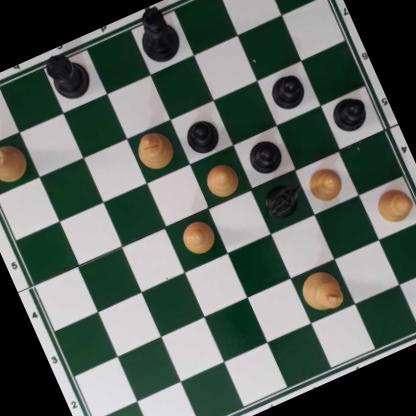black-king: (127, 0, 189, 71)
black-knight: (260, 177, 307, 224)
black-pawn: (326, 92, 372, 138), (265, 68, 310, 114), (179, 112, 224, 158), (243, 134, 286, 179)
black-rook: (40, 47, 95, 104)
white-bishop: (132, 125, 178, 174)
white-king: (294, 263, 349, 318)
white-pawn: (369, 181, 416, 230), (198, 158, 244, 202), (303, 162, 348, 206), (176, 216, 219, 259)
white-rook: (0, 135, 31, 190)
